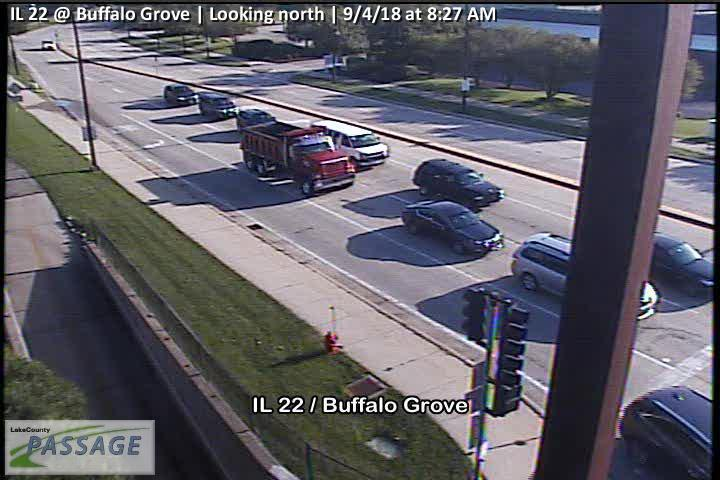Bus: (311, 119, 388, 170)
SUV: (510, 231, 658, 321), (617, 385, 714, 480), (412, 158, 504, 208), (198, 91, 238, 119), (236, 109, 275, 134), (163, 83, 198, 106)
Sedan: (401, 199, 503, 255), (652, 234, 713, 295)
Truck: (238, 120, 357, 197)
